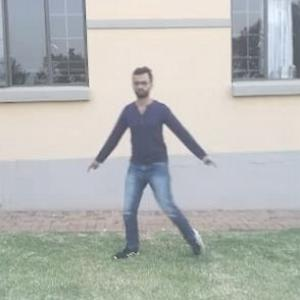land: (87, 72, 211, 245)
